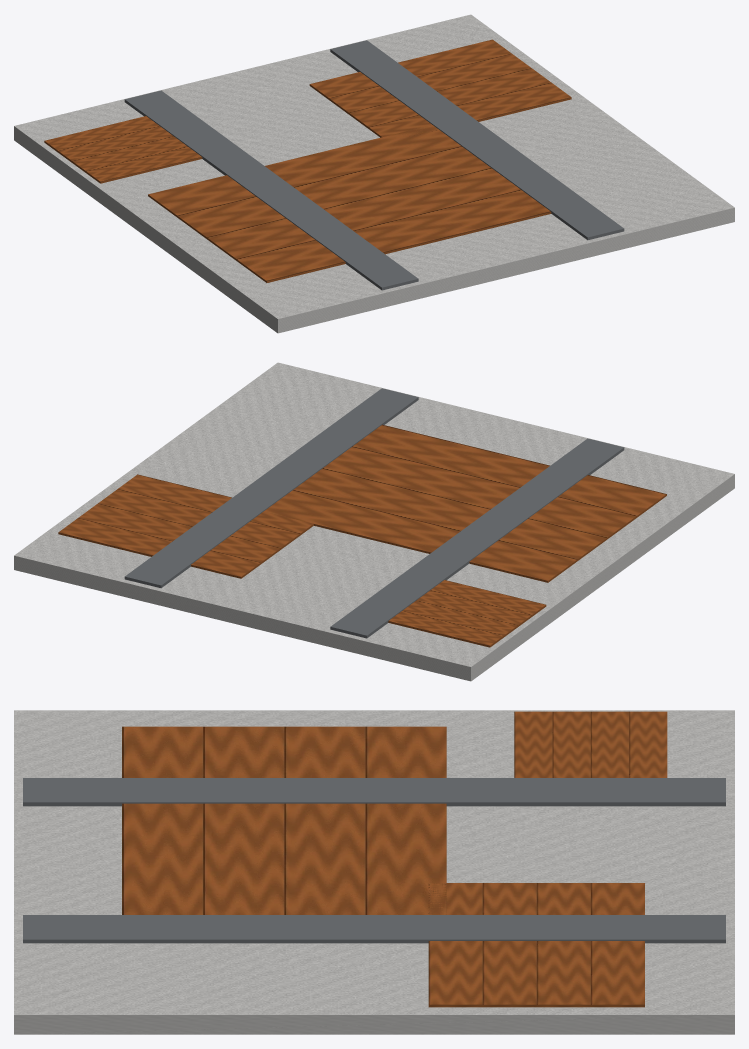
Rendered from demolition-and-site-clearance-demolition-and-site-clea-68e643ab__35667.glb.
3 renders of one model, top to bottom at view 1: azimuth 30°, elevation 25°; view 2: azimuth 150°, elevation 25°; view 3: azimuth 270°, elevation 25°, orthographic. The views are drawn at different scales.
Visible parts, largest first — view 1: demolition-and-site-clearance-mud-track-tile; view 2: demolition-and-site-clearance-mud-track-tile; view 3: demolition-and-site-clearance-mud-track-tile.
Boxes of the visible parts, x1,y1,x2,y2 form: demolition-and-site-clearance-mud-track-tile: (14, 14, 734, 333); demolition-and-site-clearance-mud-track-tile: (14, 362, 734, 681); demolition-and-site-clearance-mud-track-tile: (14, 710, 734, 1034).
Bounding box in the file's own units: 4 × 0.144 × 4.
Materials: 3 (2 with a texture image).
